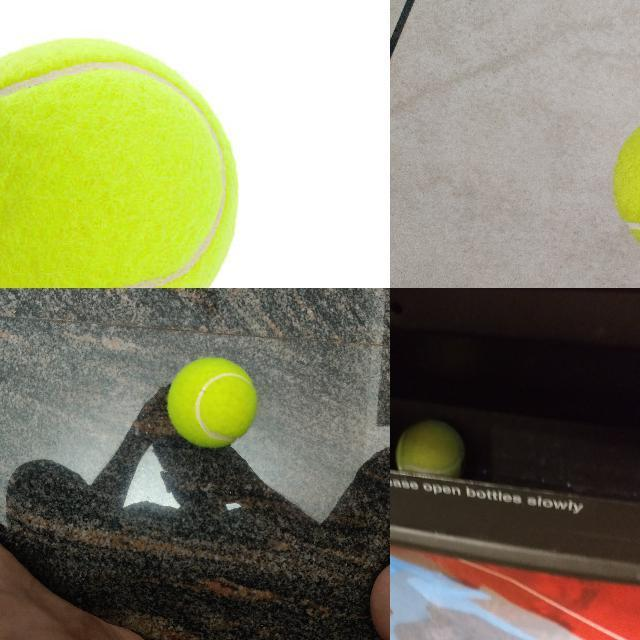tennis-ball: (0, 37, 238, 287), (167, 356, 258, 448), (395, 419, 466, 470)
